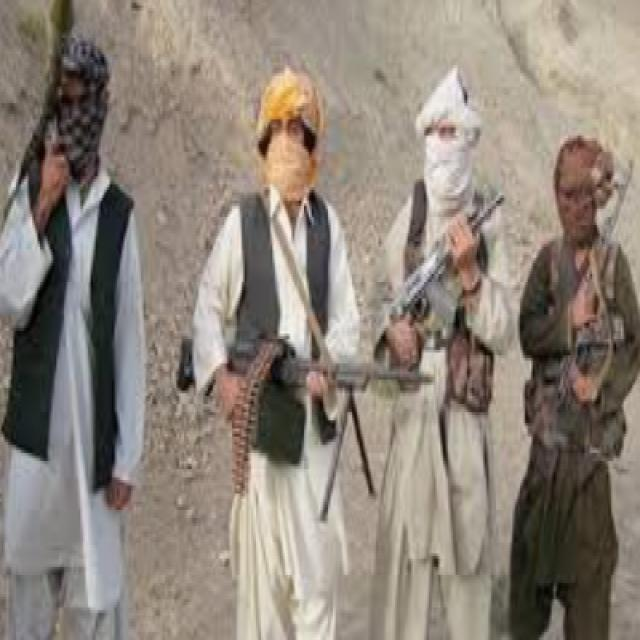civilian: (0, 35, 144, 640)
terrorist: (175, 65, 446, 640), (365, 68, 520, 640), (509, 136, 640, 640)
